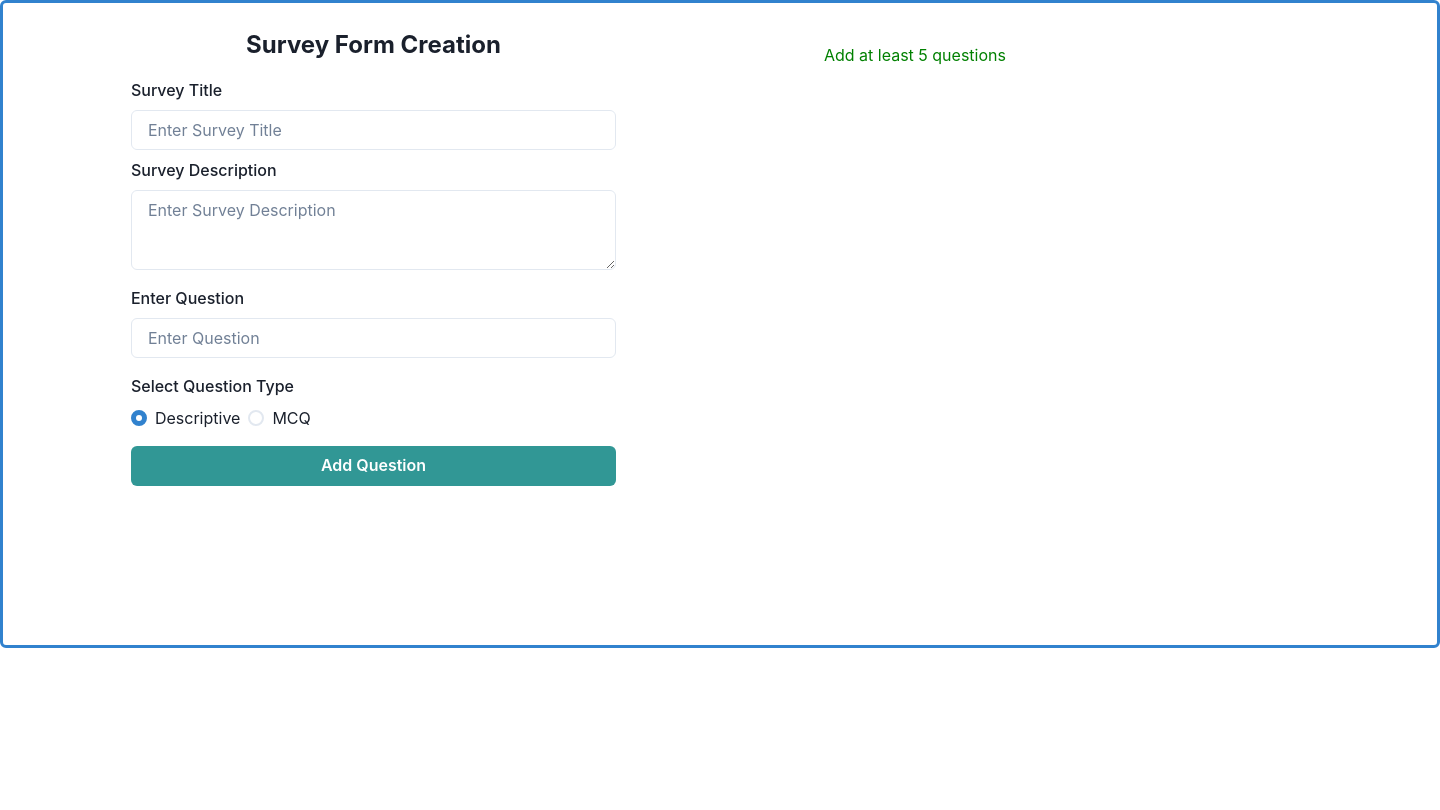
Test: survey page component testing › should radio button working
Click the radio button labelled "MCQ". click: (280, 418)
box: top-left (248, 406), bottom-right (311, 430)
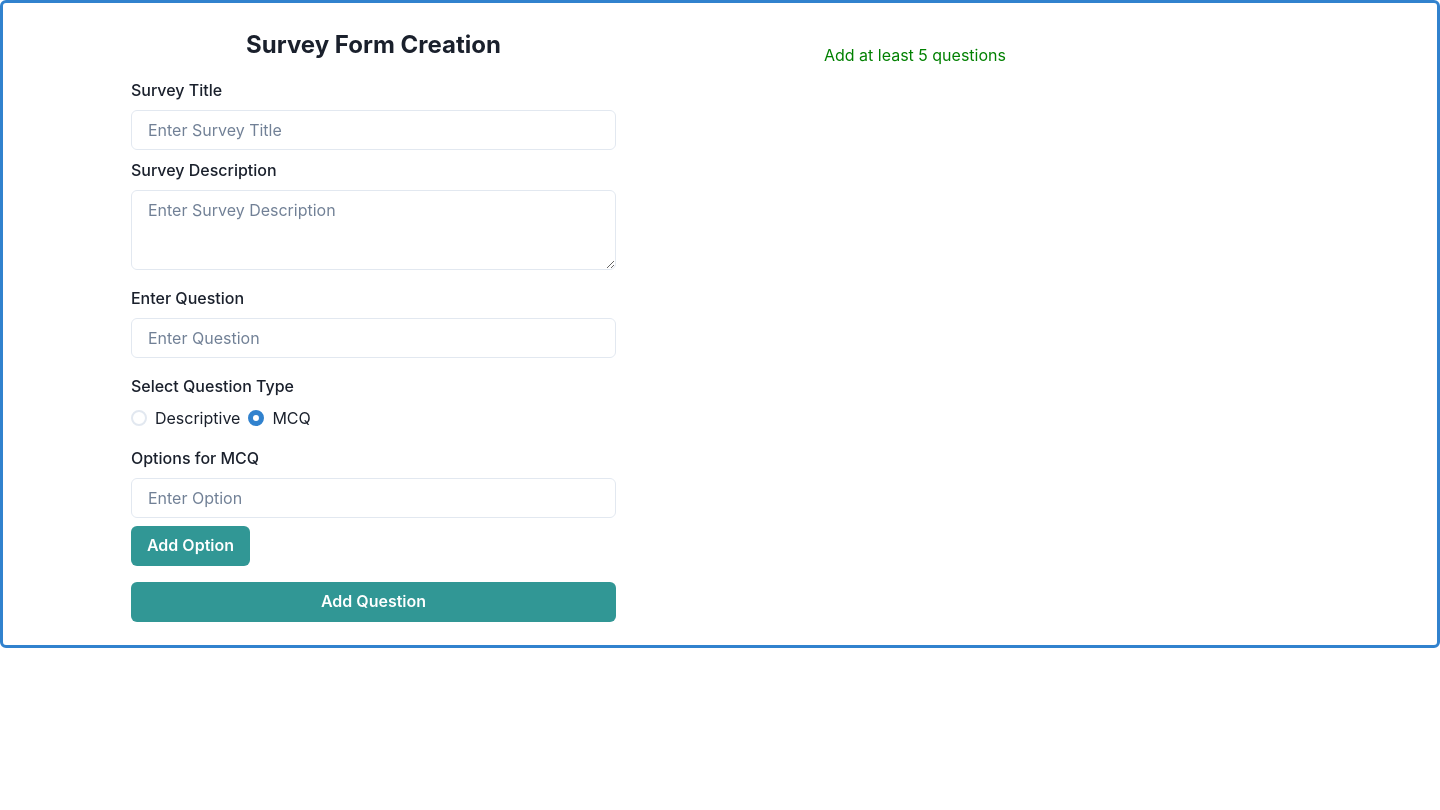
Expected: the radio button labelled "MCQ" is checked, top-left (248, 406), bottom-right (311, 430)
Expected: the radio button labelled "Descriptive" is not checked, top-left (131, 406), bottom-right (240, 430)
